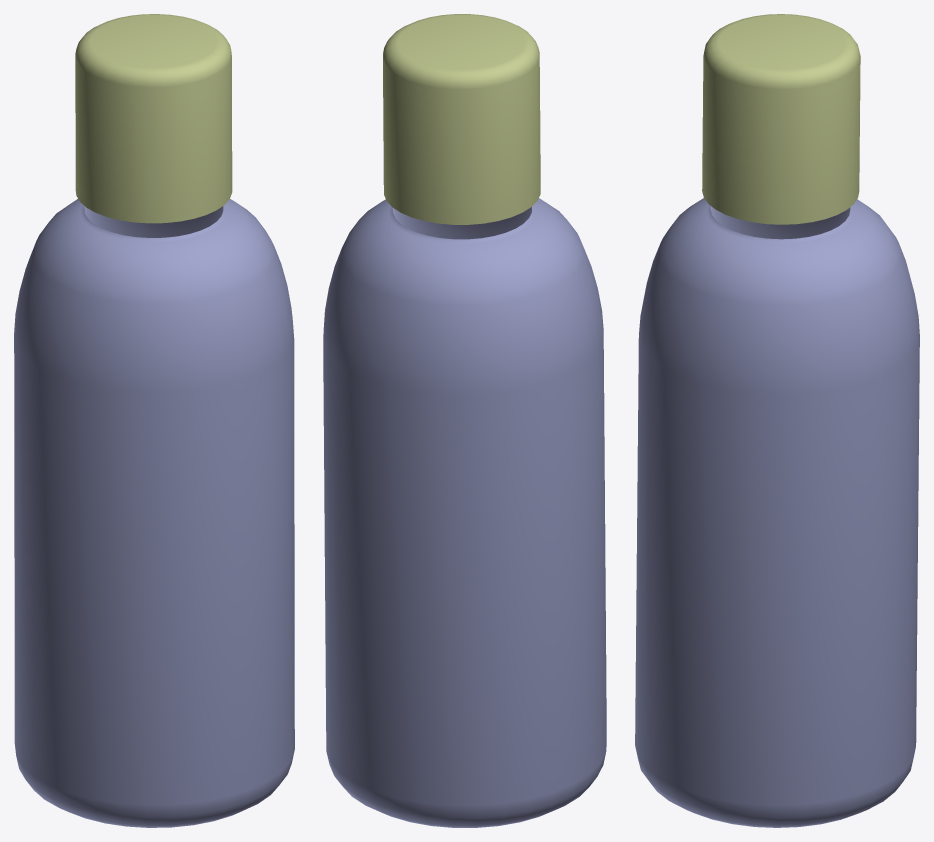
File: perfume5.glb
The picture shows the model from 3 angles, left to right: view 1: azimuth 30°, elevation 25°; view 2: azimuth 150°, elevation 25°; view 3: azimuth 270°, elevation 25°; orthographic projection.
Visible parts, largest first — view 1: Circle.003, Circle.002; view 2: Circle.003, Circle.002; view 3: Circle.003, Circle.002.
Part boxes in pixels (x1,y1,x2,y2): Circle.003: (14, 199, 294, 827); Circle.002: (75, 14, 232, 223); Circle.003: (323, 198, 606, 827); Circle.002: (383, 14, 540, 224); Circle.003: (635, 198, 919, 827); Circle.002: (702, 14, 860, 224).
Bounding box in the file's own units: 3.59 × 10.41 × 3.62.
